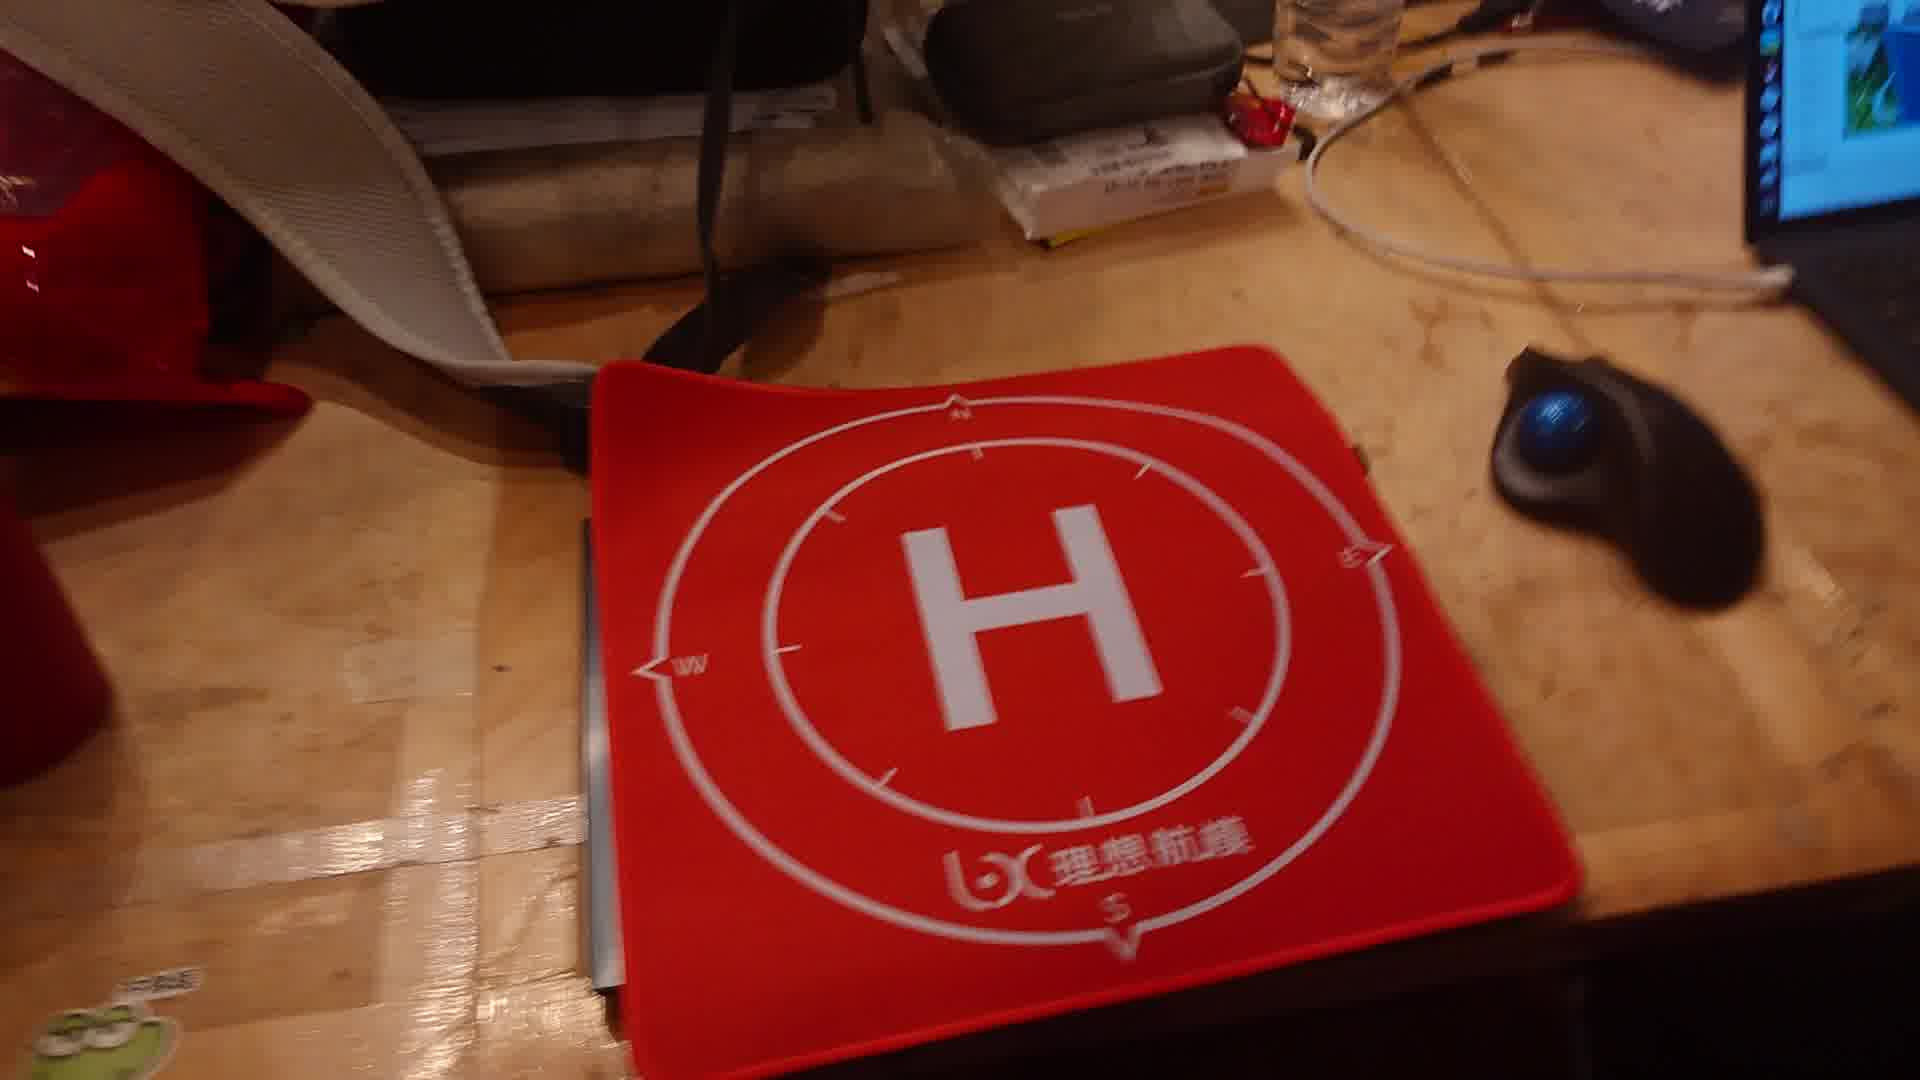H: (899, 502, 1162, 731)
